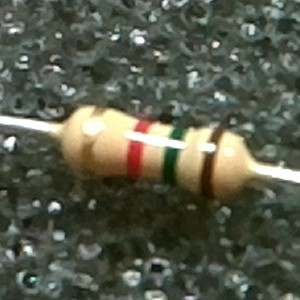brown_band: (196, 127, 227, 202)
gold_band: (78, 104, 111, 182)
green_band: (158, 125, 190, 188)
red_band: (120, 116, 157, 184)
